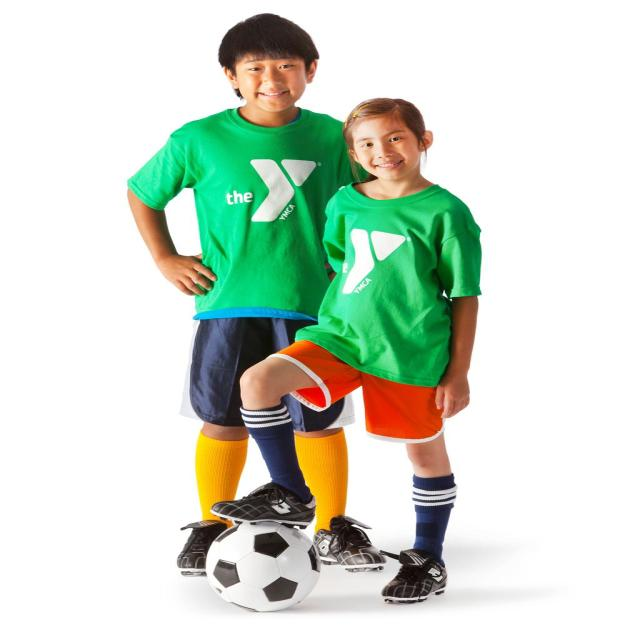Face: (212, 24, 325, 124), (344, 103, 440, 187)
